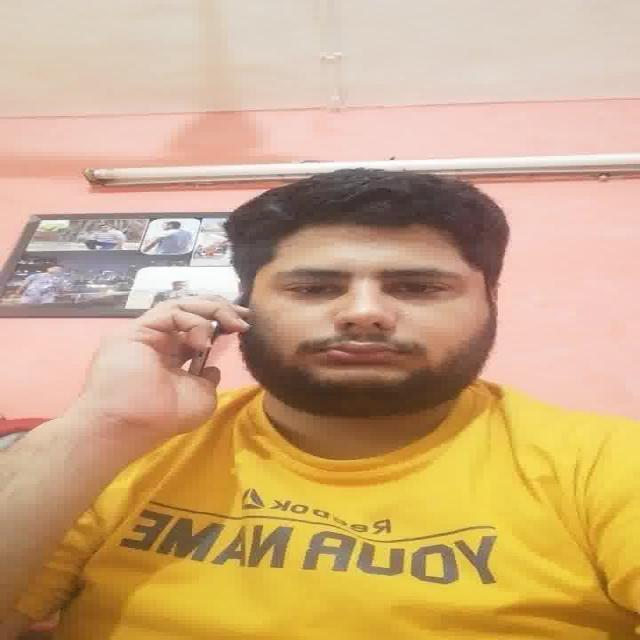phone: (185, 290, 242, 389)
